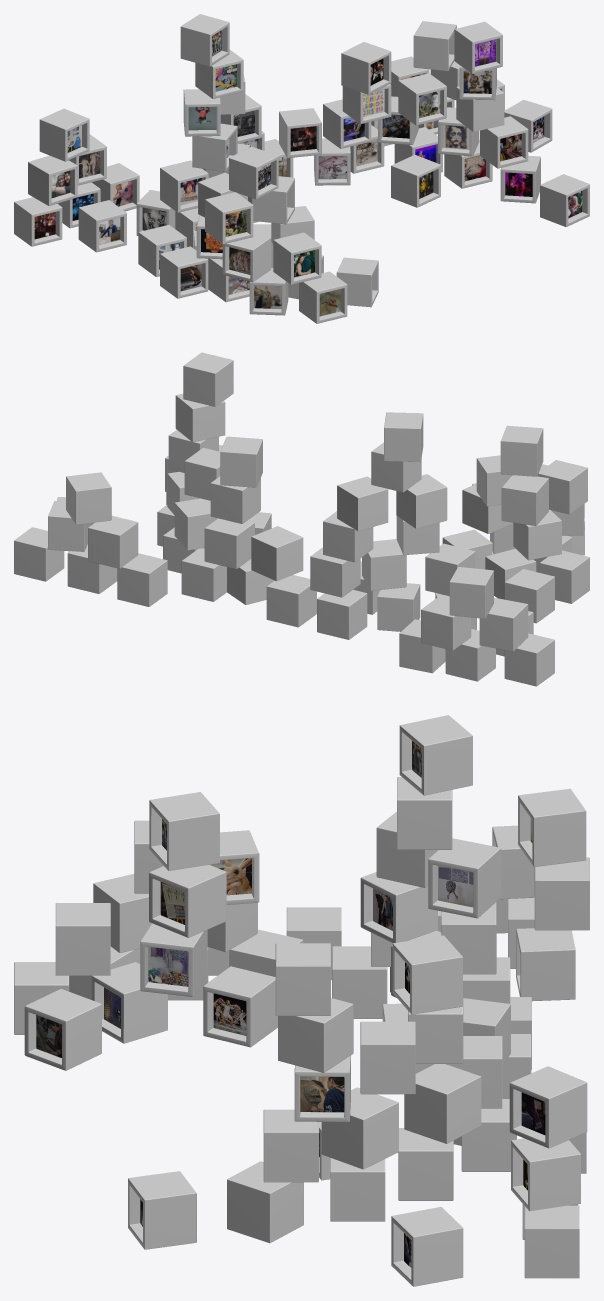
Rendered from NewBoxes.glb.
The picture shows the model from 3 angles, top to bottom: view 1: azimuth 30°, elevation 25°; view 2: azimuth 150°, elevation 25°; view 3: azimuth 270°, elevation 25°; orthographic projection. The views are drawn at different scales.
Visible parts, largest first — view 1: test; view 2: test; view 3: test.
Part boxes in pixels (x1,y1,x2,y2): test: [14, 14, 589, 323]; test: [14, 352, 589, 686]; test: [14, 715, 589, 1286].
Size of the model in its own units: 3.27 by 1.21 by 2.11.
2 materials, 1 textured.
